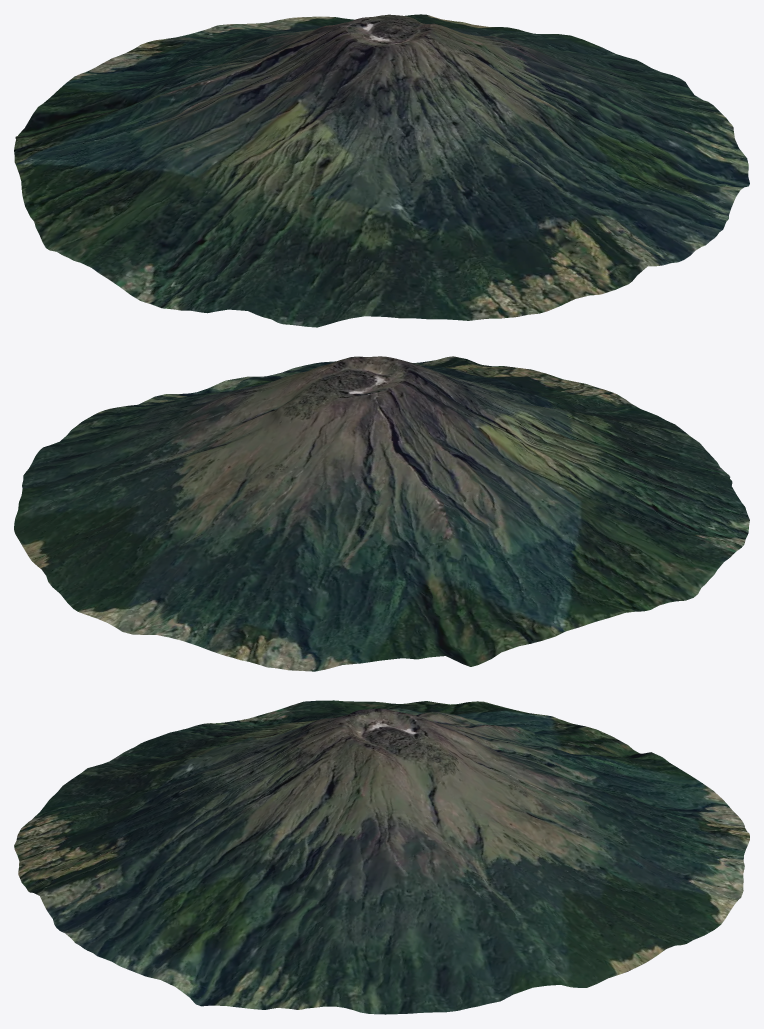
Rendered from mount-sumbing.glb.
The picture shows the model from 3 angles, top to bottom: view 1: azimuth 30°, elevation 25°; view 2: azimuth 150°, elevation 25°; view 3: azimuth 270°, elevation 25°; orthographic projection.
Parts seen in each view (by area): view 1: Object_2; view 2: Object_2; view 3: Object_2.
Part boxes in pixels (x1,y1,x2,y2): Object_2: [14, 14, 749, 327]; Object_2: [14, 356, 749, 671]; Object_2: [14, 700, 749, 1014].
Size of the model in its own units: 1397 by 316 by 1396.
1 material, 1 textured.
